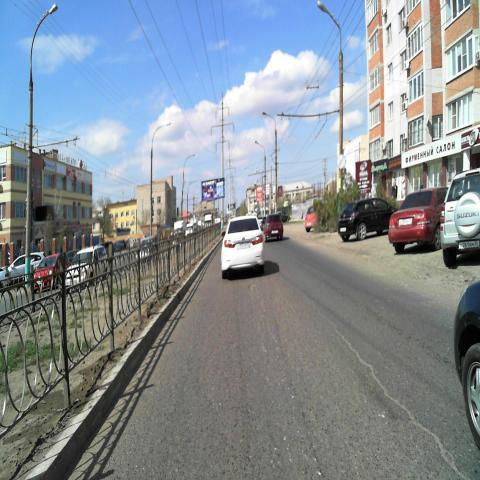3_31: (336, 150, 346, 171)
